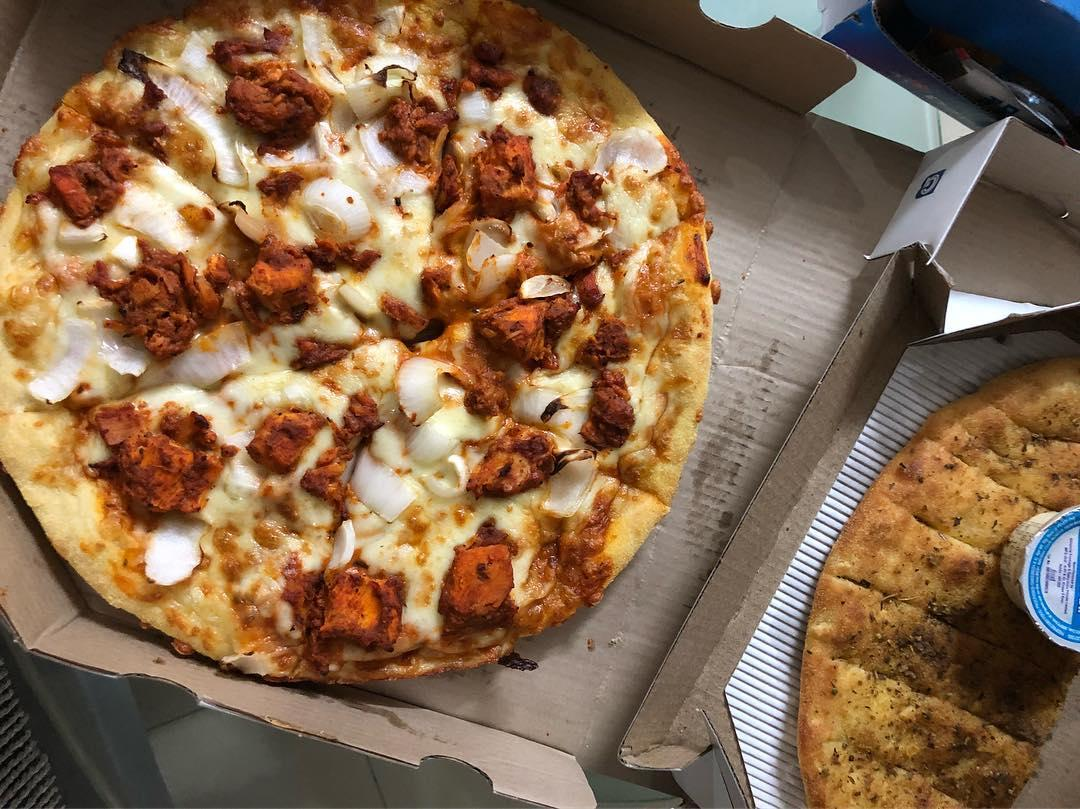Cheese: (222, 509, 302, 594), (378, 195, 431, 291), (29, 235, 94, 306), (266, 323, 324, 400), (383, 508, 445, 570), (616, 198, 666, 247), (532, 115, 570, 175)
Chicken: (249, 379, 375, 509), (123, 429, 230, 519), (220, 58, 322, 143), (463, 415, 558, 502), (479, 292, 585, 369), (119, 258, 198, 357), (318, 566, 402, 651), (249, 240, 327, 317), (439, 549, 515, 622), (583, 368, 640, 465), (52, 150, 121, 227), (472, 128, 541, 199), (456, 26, 510, 104), (535, 209, 603, 266), (579, 310, 635, 373), (386, 98, 432, 167), (521, 55, 569, 118)
Onion: (166, 68, 251, 189), (126, 158, 208, 256), (26, 320, 94, 404), (170, 323, 253, 380), (136, 526, 205, 587), (300, 182, 370, 241), (365, 28, 417, 104), (349, 112, 407, 175), (295, 20, 343, 94), (356, 449, 405, 520), (393, 356, 444, 418), (418, 406, 472, 461), (603, 128, 662, 177), (456, 213, 510, 265), (98, 330, 148, 378), (545, 468, 586, 518), (553, 398, 591, 441), (320, 522, 358, 563), (516, 389, 551, 425)
Pizza: (3, 5, 702, 682), (779, 355, 1080, 809)
